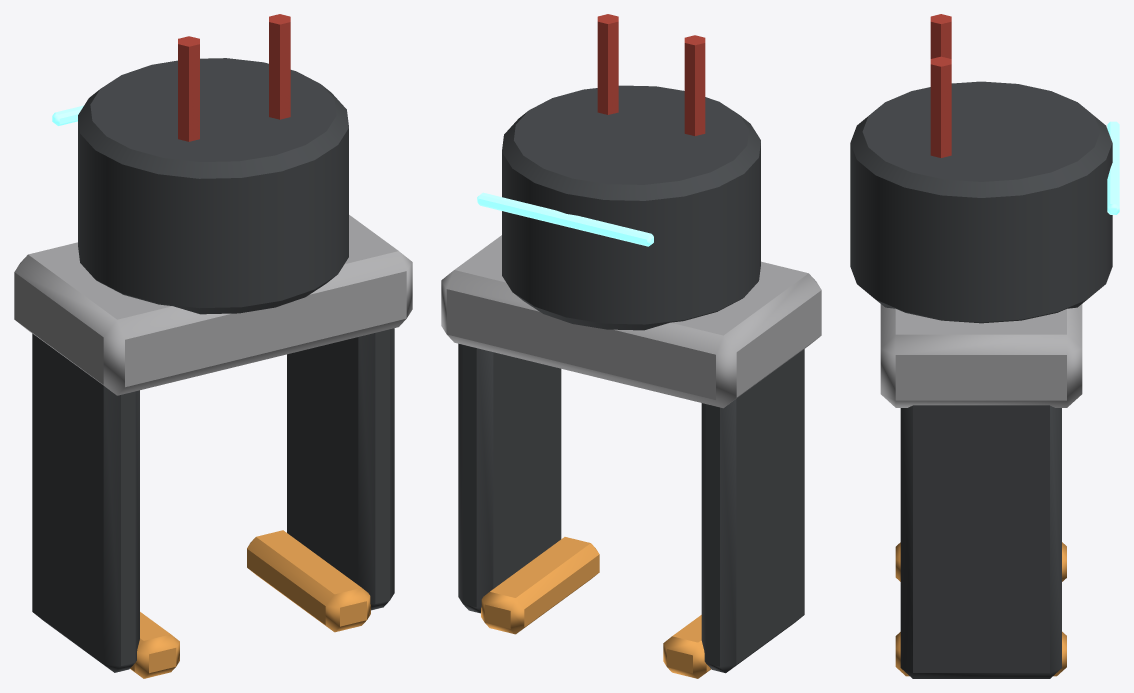
File: sorter_jaw.glb
The picture shows the model from 3 angles, left to right: view 1: azimuth 30°, elevation 25°; view 2: azimuth 150°, elevation 25°; view 3: azimuth 270°, elevation 25°; orthographic projection. The views are drawn at different scales.
Visible parts, largest first — view 1: sorter_jaw; view 2: sorter_jaw; view 3: sorter_jaw.
Boxes of the visible parts, x1=… form: sorter_jaw: x1=14, y1=14, x2=412, y2=678; sorter_jaw: x1=441, y1=14, x2=821, y2=678; sorter_jaw: x1=850, y1=14, x2=1119, y2=678.
Bounding box in the file's own units: 0.34 × 0.64 × 0.267.
